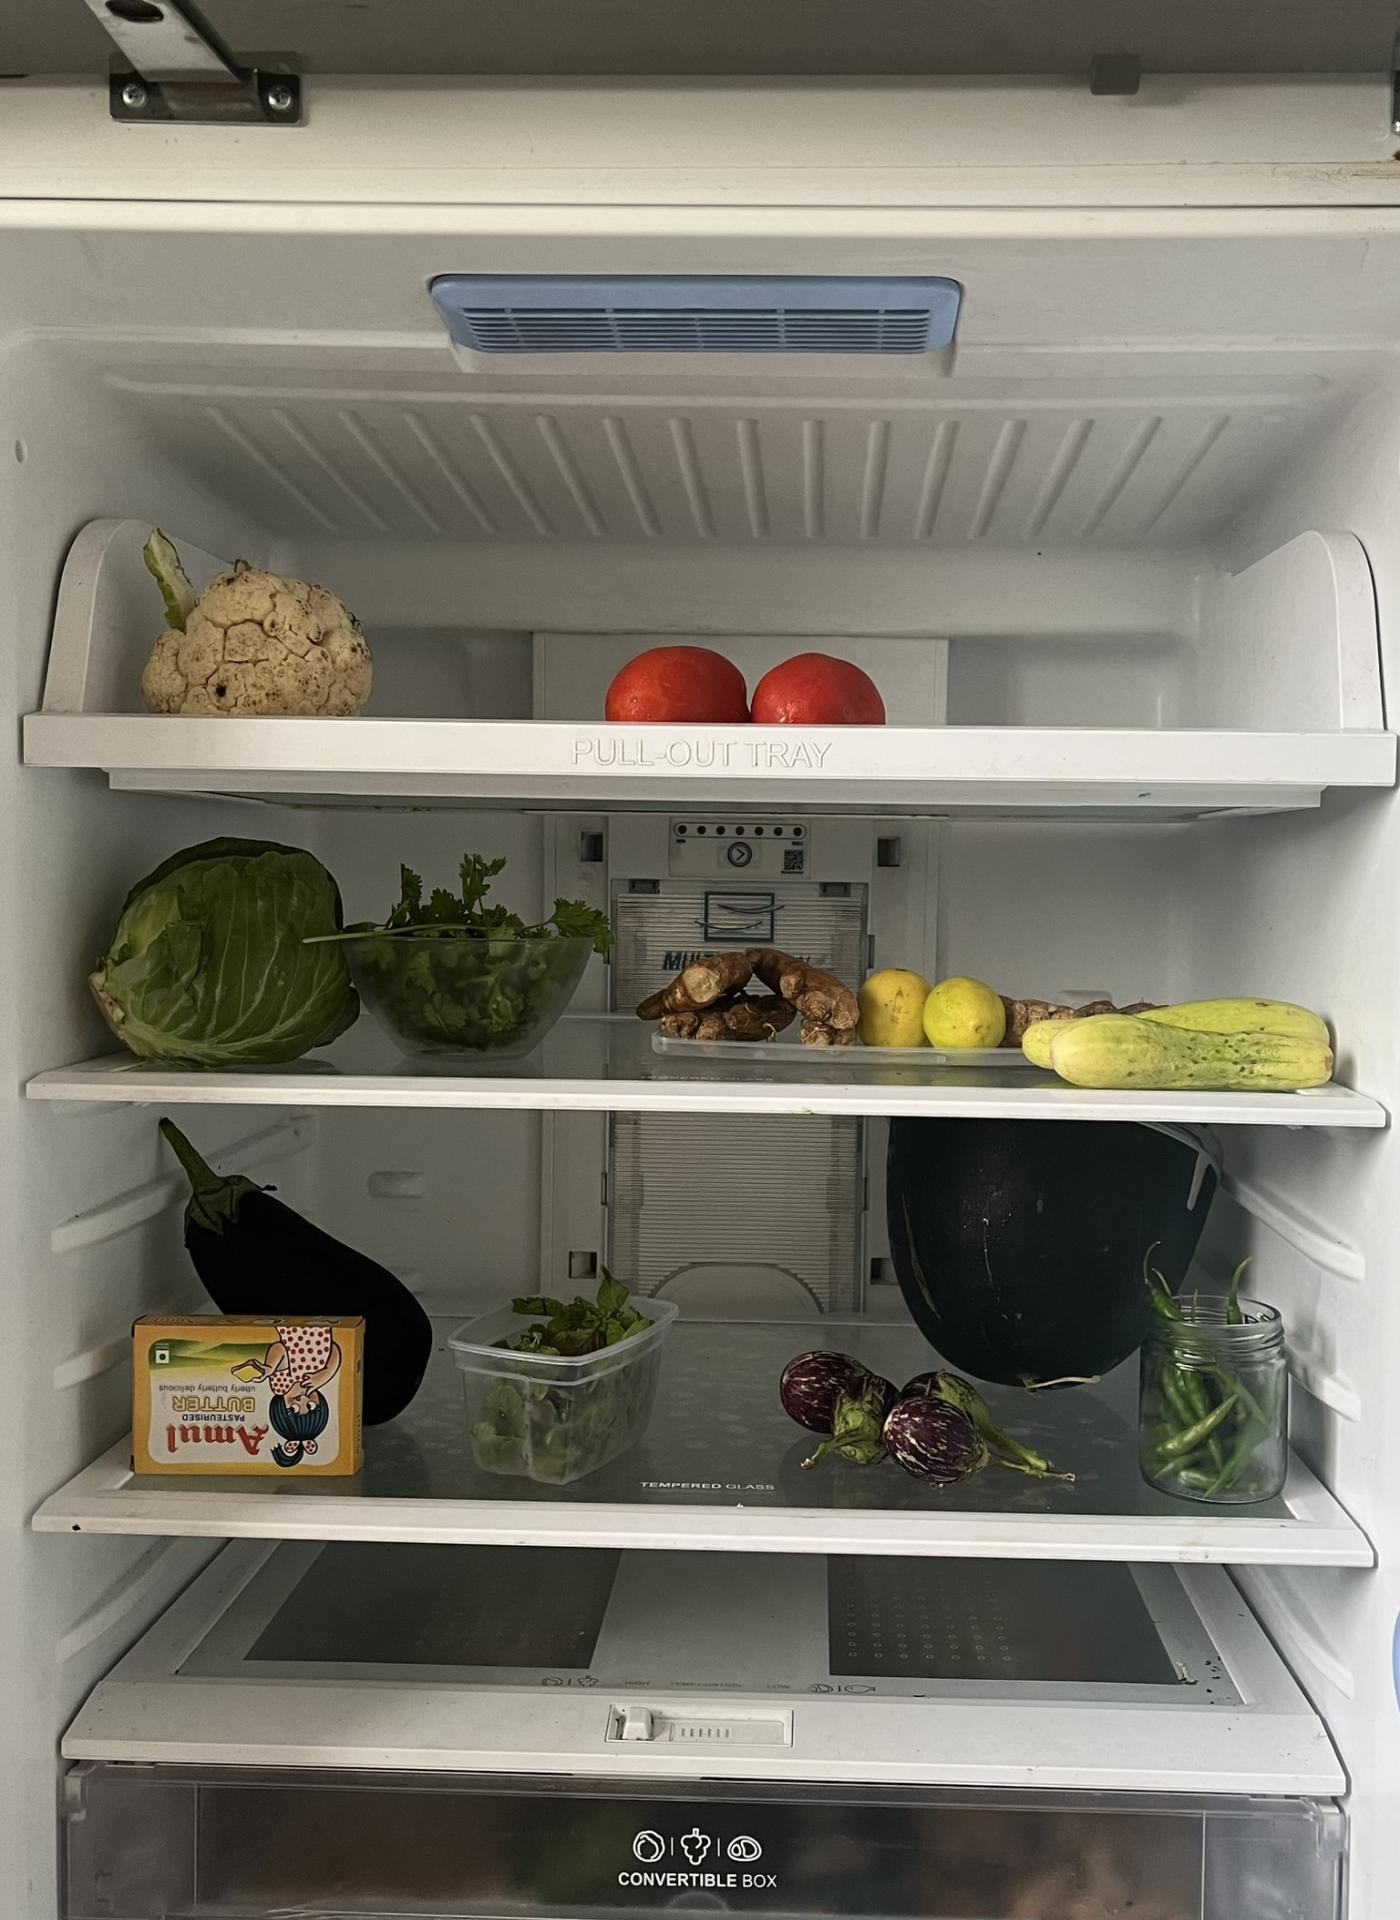basil: (468, 1275, 656, 1471)
butter: (140, 1315, 370, 1485)
cabbage: (73, 826, 361, 1063)
cauliflower: (140, 568, 374, 716)
chillies: (1148, 1272, 1282, 1497)
coriander: (346, 859, 601, 1052)
cucumber: (1036, 1003, 1343, 1091)
ginger: (650, 941, 857, 1054)
lemon: (869, 966, 999, 1051)
tomato: (596, 634, 884, 724)
watermelon: (893, 1122, 1200, 1382)
